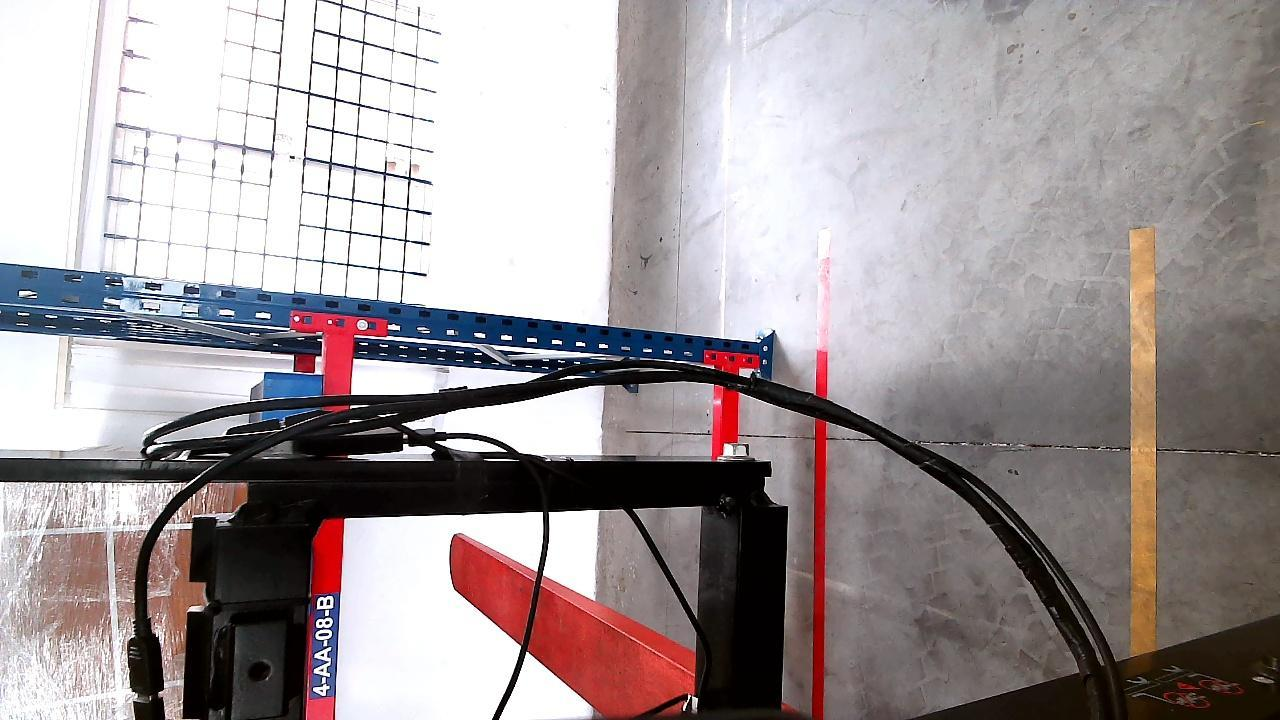red_line: (811, 227, 828, 720)
yellow_line: (1131, 221, 1159, 664)
